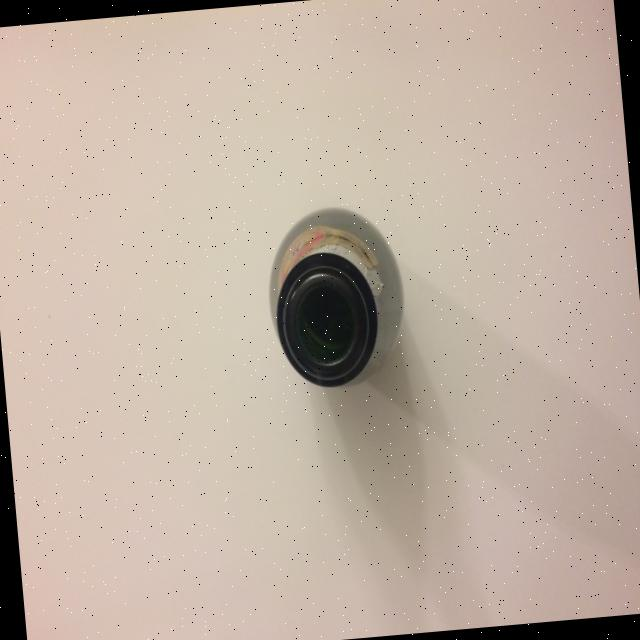glass: (261, 197, 416, 396)
